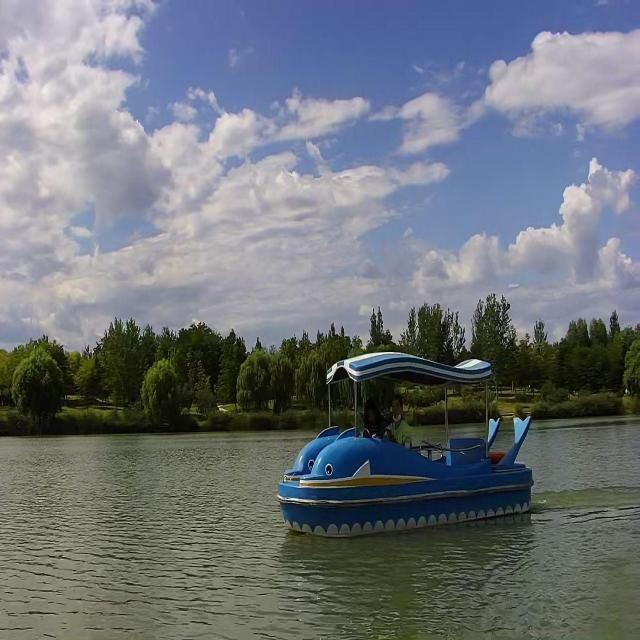ship2: (295, 352, 536, 501)
